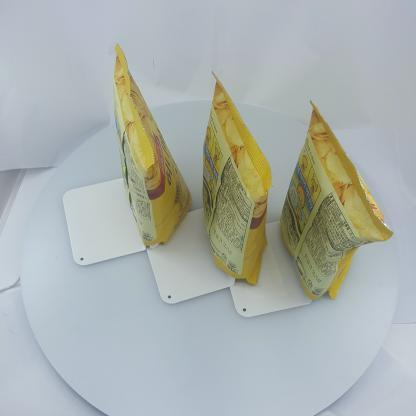Plastic Packaging: (282, 98, 388, 296), (115, 42, 191, 252), (200, 77, 272, 285)
